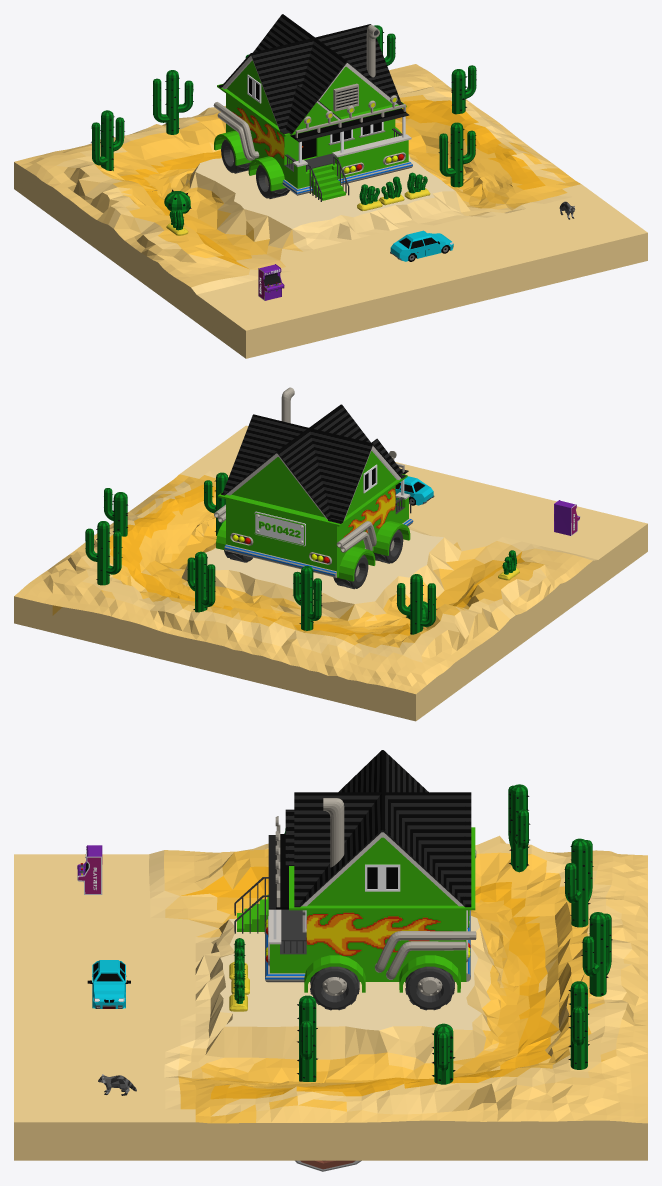
The picture shows the model from 3 angles, top to bottom: view 1: azimuth 30°, elevation 25°; view 2: azimuth 150°, elevation 25°; view 3: azimuth 270°, elevation 25°; orthographic projection. The views are drawn at different scales.
Visible parts, largest first — view 1: Cube.001, Cube.1474, Cylinder.037, Cylinder.044, Cylinder.045, VEHICLES_CAR, Cylinder.038, OBJRANDOM_ARCADE, Cylinder.041, Cylinder.039; view 2: Cube.001, Cube.1474, Cylinder.042, Cylinder.045, Cylinder.044, Cylinder.043, Cylinder.038, OBJRANDOM_ARCADE, Cylinder.037, VEHICLES_CAR; view 3: Cube.001, Cube.1474, Cylinder.043, Cylinder.044, VEHICLES_CAR, Cylinder.045, Cylinder.042, Cylinder.037, Cylinder.038, OBJRANDOM_ARCADE.
Part boxes in pixels (x1,y1,x2,y2): Cube.001: [14, 64, 647, 358]; Cube.1474: [213, 14, 412, 201]; Cylinder.037: [438, 122, 476, 187]; Cylinder.044: [153, 70, 193, 134]; Cylinder.045: [91, 110, 124, 170]; VEHICLES_CAR: [390, 230, 453, 261]; Cylinder.038: [451, 65, 476, 114]; OBJRANDOM_ARCADE: [258, 264, 284, 300]; Cylinder.041: [404, 172, 430, 199]; Cylinder.039: [357, 184, 382, 210]; Cube.001: [14, 425, 647, 721]; Cube.1474: [214, 387, 413, 589]; Cylinder.042: [85, 521, 122, 585]; Cylinder.045: [396, 574, 436, 634]; Cylinder.044: [293, 566, 322, 630]; Cylinder.043: [187, 551, 215, 612]; Cylinder.038: [104, 488, 127, 536]; OBJRANDOM_ARCADE: [554, 500, 580, 535]; Cylinder.037: [204, 472, 228, 535]; VEHICLES_CAR: [395, 476, 434, 505]; Cube.001: [14, 835, 647, 1160]; Cube.1474: [234, 750, 476, 1010]; Cylinder.043: [581, 912, 612, 996]; Cylinder.044: [564, 838, 593, 927]; VEHICLES_CAR: [87, 960, 130, 1008]; Cylinder.045: [508, 784, 530, 872]; Cylinder.042: [568, 981, 589, 1069]; Cylinder.037: [297, 995, 317, 1081]; Cylinder.038: [432, 1023, 455, 1084]; OBJRANDOM_ARCADE: [77, 845, 102, 894].
Size of the model in its own units: 4002 by 2581 by 4001.
45 materials, 3 textured.
